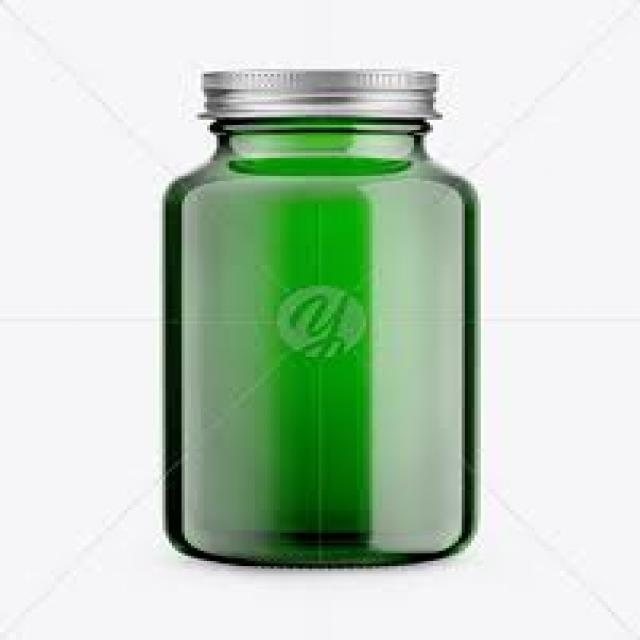Glass-Non-Biodegradable but Recyclable-: (161, 68, 483, 570)
